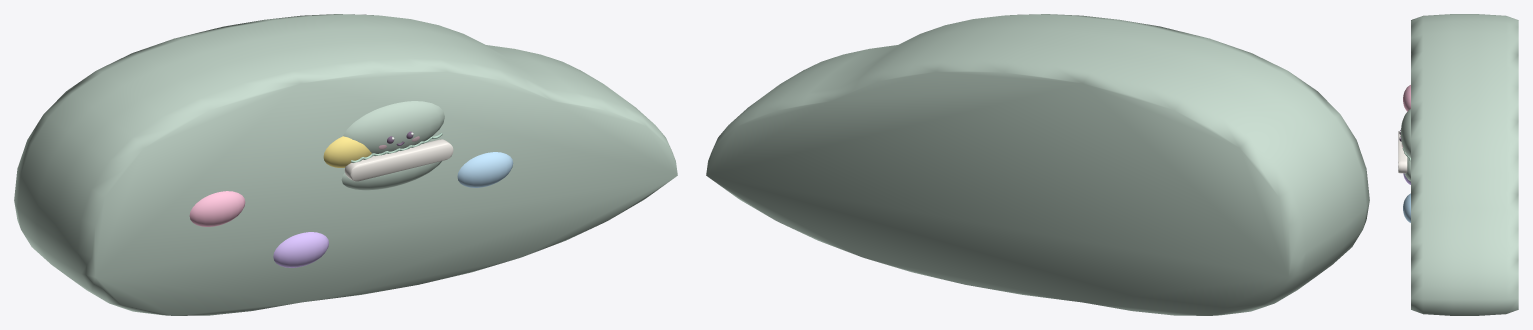
The model's file is decor_5_classic.glb.
3 renders of one model, left to right at view 1: azimuth 30°, elevation 25°; view 2: azimuth 150°, elevation 25°; view 3: azimuth 270°, elevation 25°, orthographic. The views are drawn at different scales.
Visible parts, largest first — view 1: decor_5_classic; view 2: decor_5_classic; view 3: decor_5_classic.
Part boxes in pixels (x1,y1,x2,y2): decor_5_classic: (14,14,677,315); decor_5_classic: (706,14,1369,315); decor_5_classic: (1398,14,1518,315).
Bounding box in the file's own units: 14.39 × 5.63 × 3.6.
